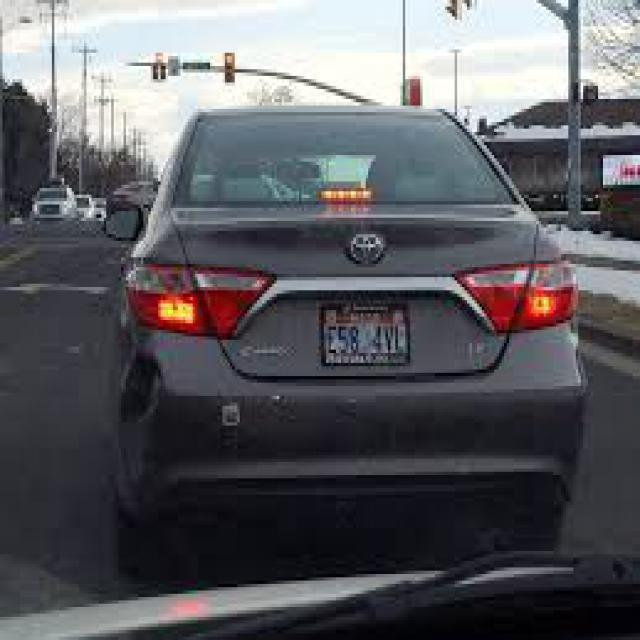rear-bumper-dent: (86, 330, 282, 548)
